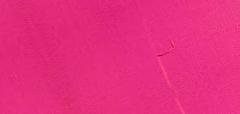snag: (152, 39, 178, 61)
